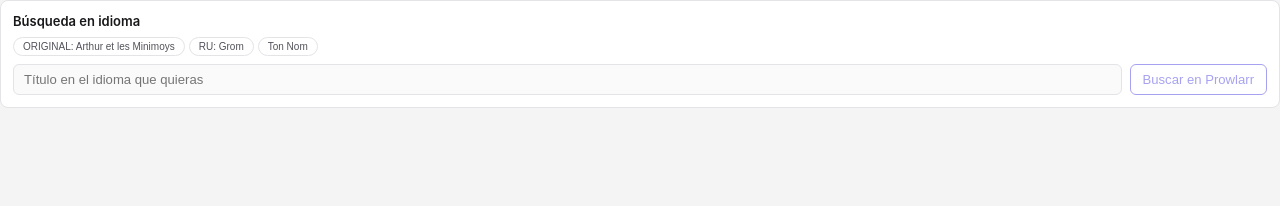
Test: Búsqueda en idioma — search and results › sends {query, movieId} and renders rows (title, indexer, seeders, size) with their one action
Note: The input is free text — the titles TMDB does not carry are typed by hand.
In the field with placeholder "Título en el idioma que quieras": (567, 80) [13,64,1122,95], type "Артур и минипуты"
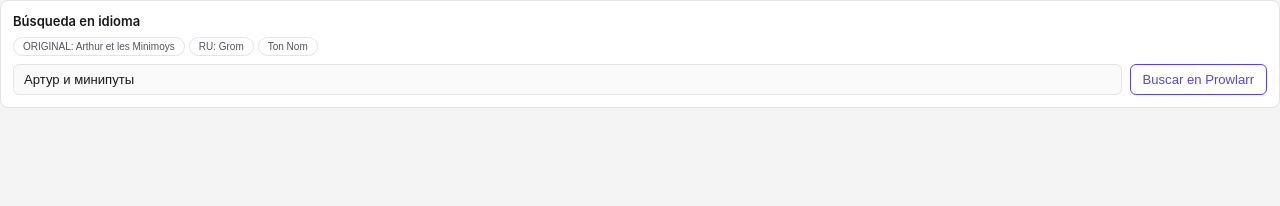
Click the button "Buscar en Prowlarr": (1198, 80) [1130,64,1267,95]
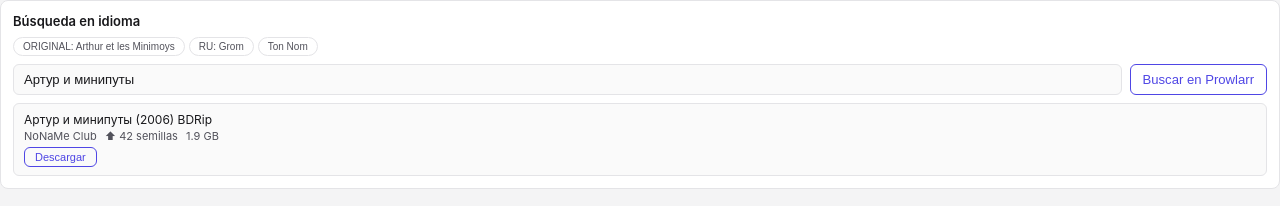
expect the text "Артур и минипуты (2006) BDRip" is shown: met, box [24,112,212,127]
expect the text "NoNaMe Club" is shown: met, box [24,129,97,143]
expect the text "⬆ 42 semillas" is shown: met, box [105,129,178,143]
